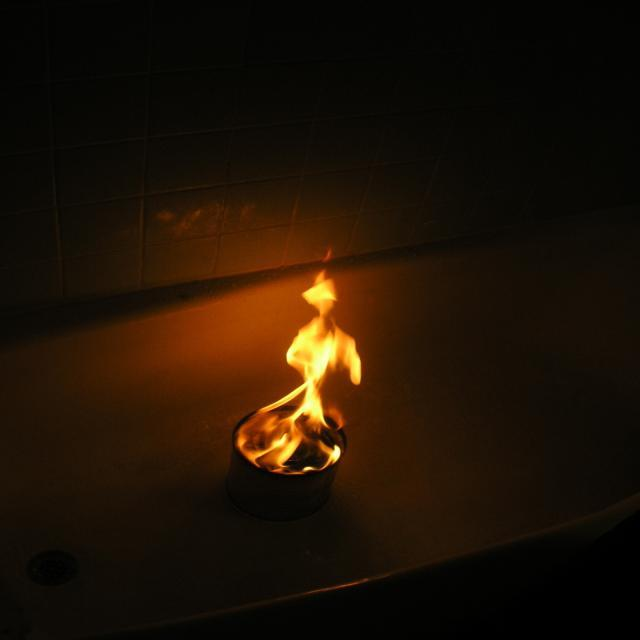Fire: (238, 250, 386, 480)
